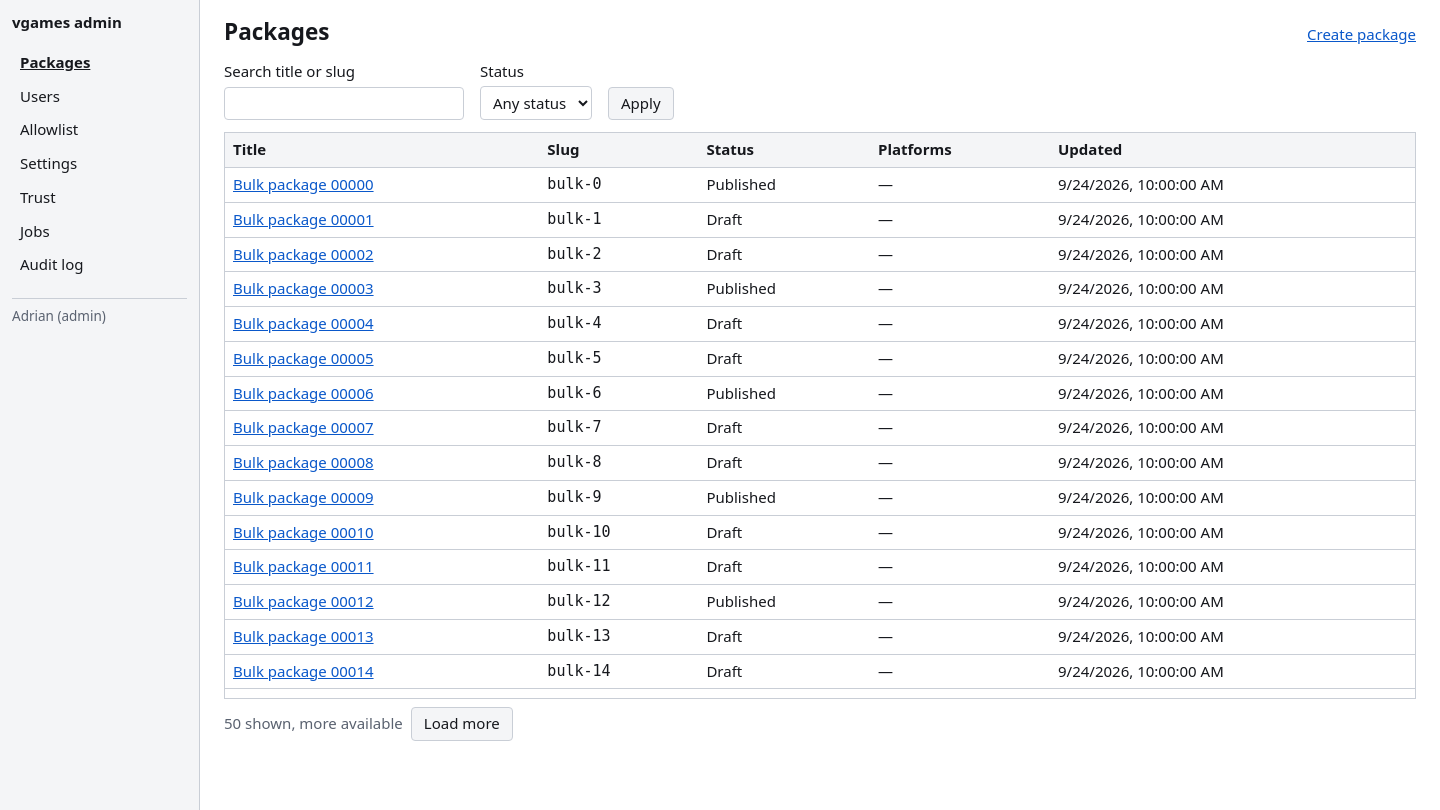
it: list pages past the threshold › packages: loading 250 of 10,000 keeps the table to a window
The image size is (1440, 810).
Click the button "Load more" at (462, 724), box [411,707,513,741]
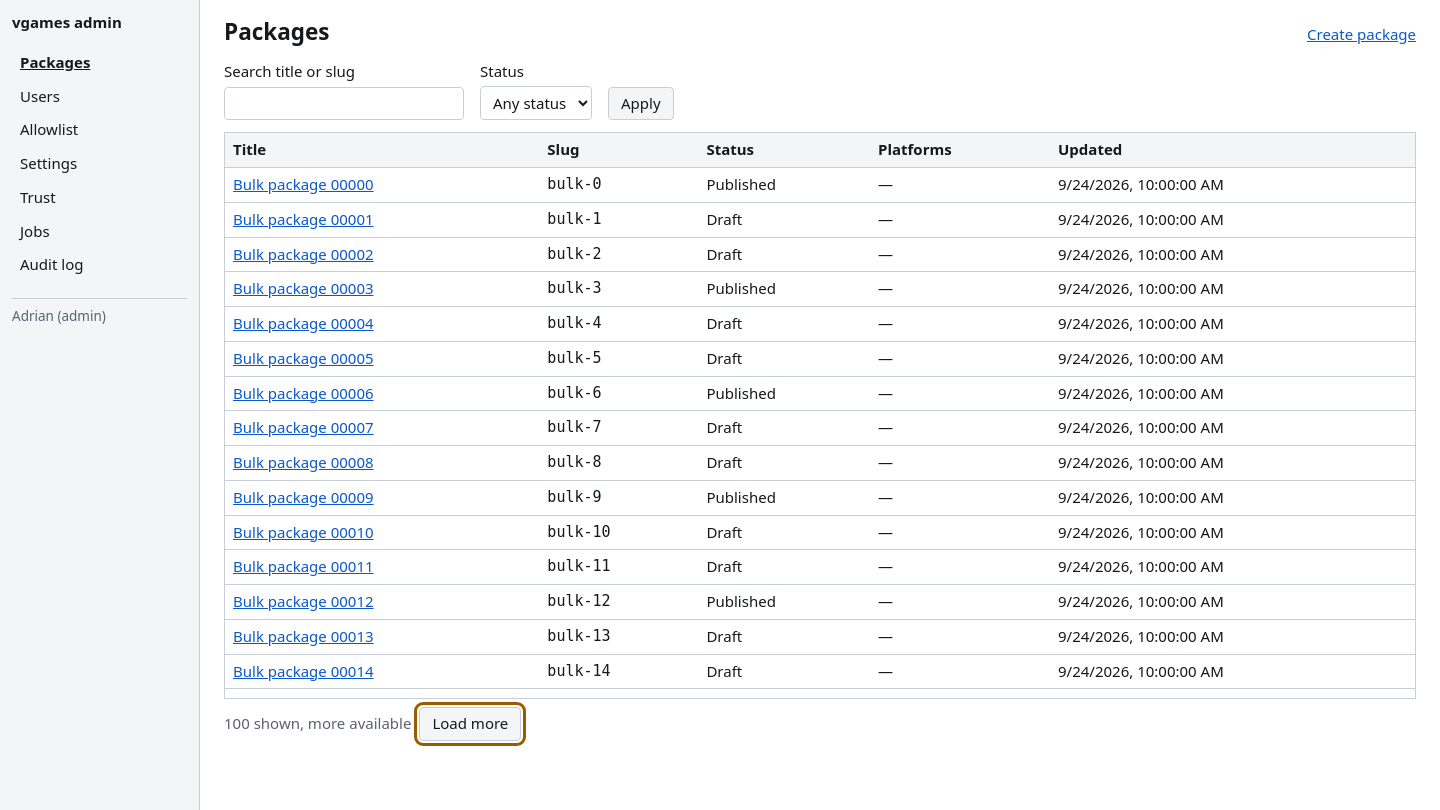
Click the button "Load more" at (470, 724), box [419,707,521,741]
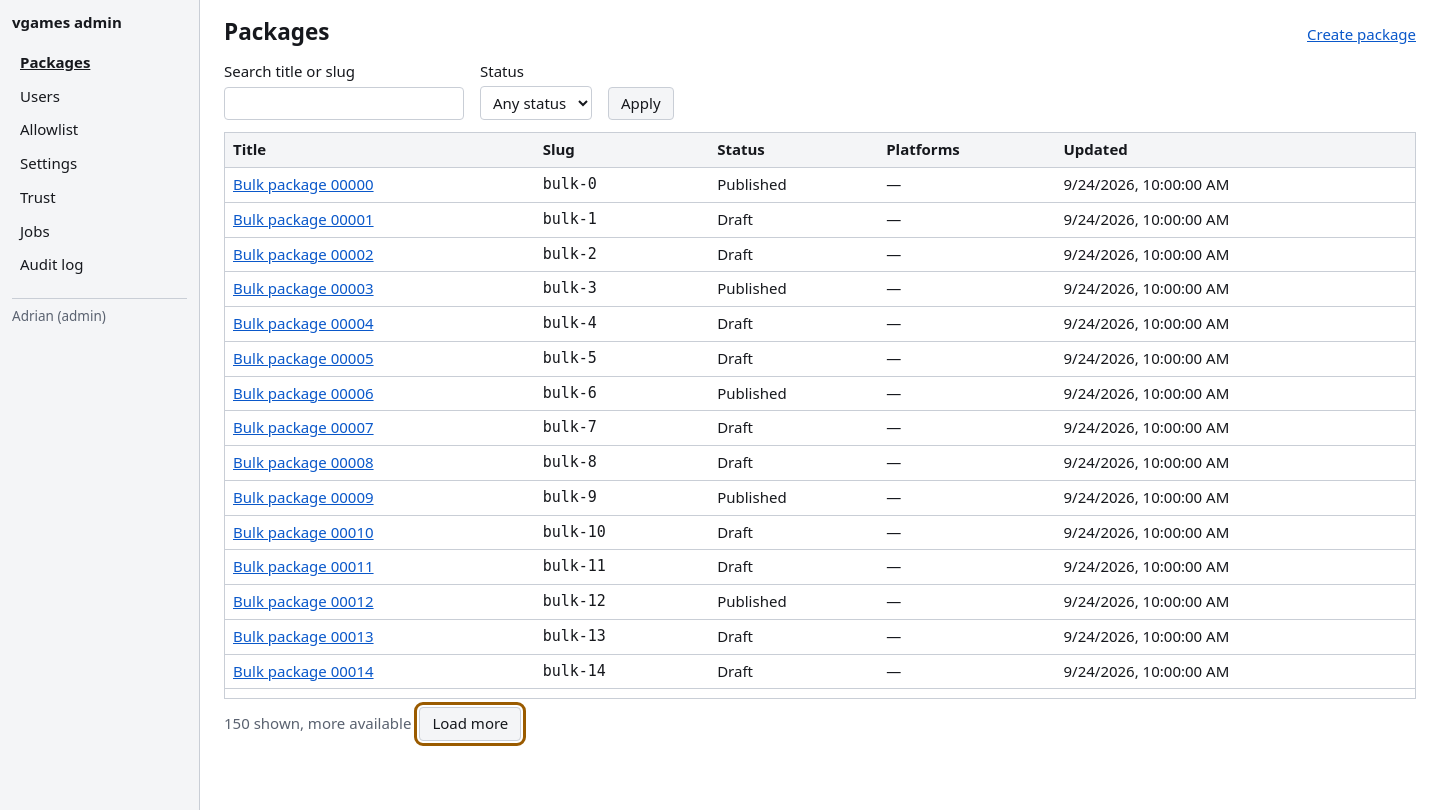
Click the button "Load more" at (470, 724), box [419,707,521,741]
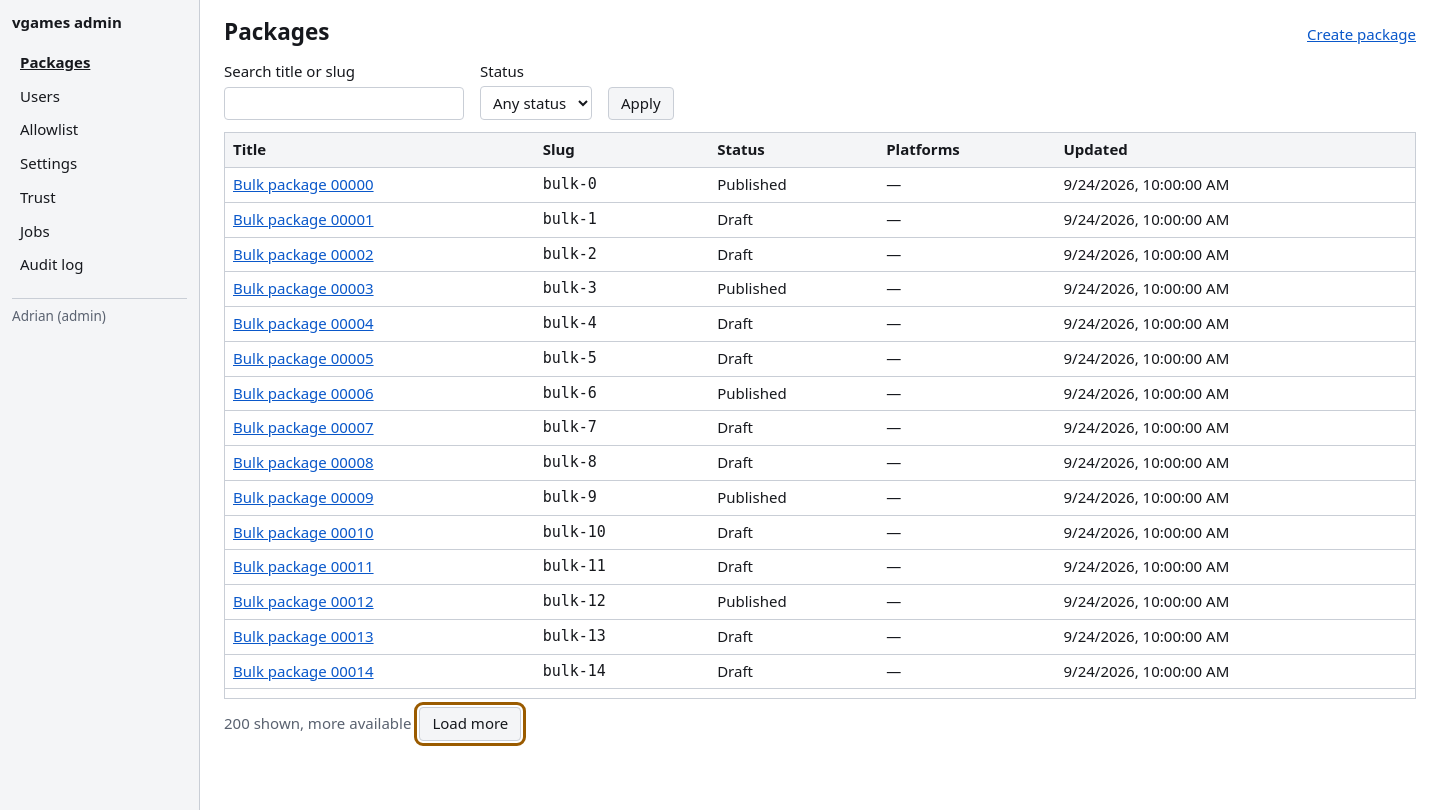
Click the button "Load more" at (470, 724), box [419,707,521,741]
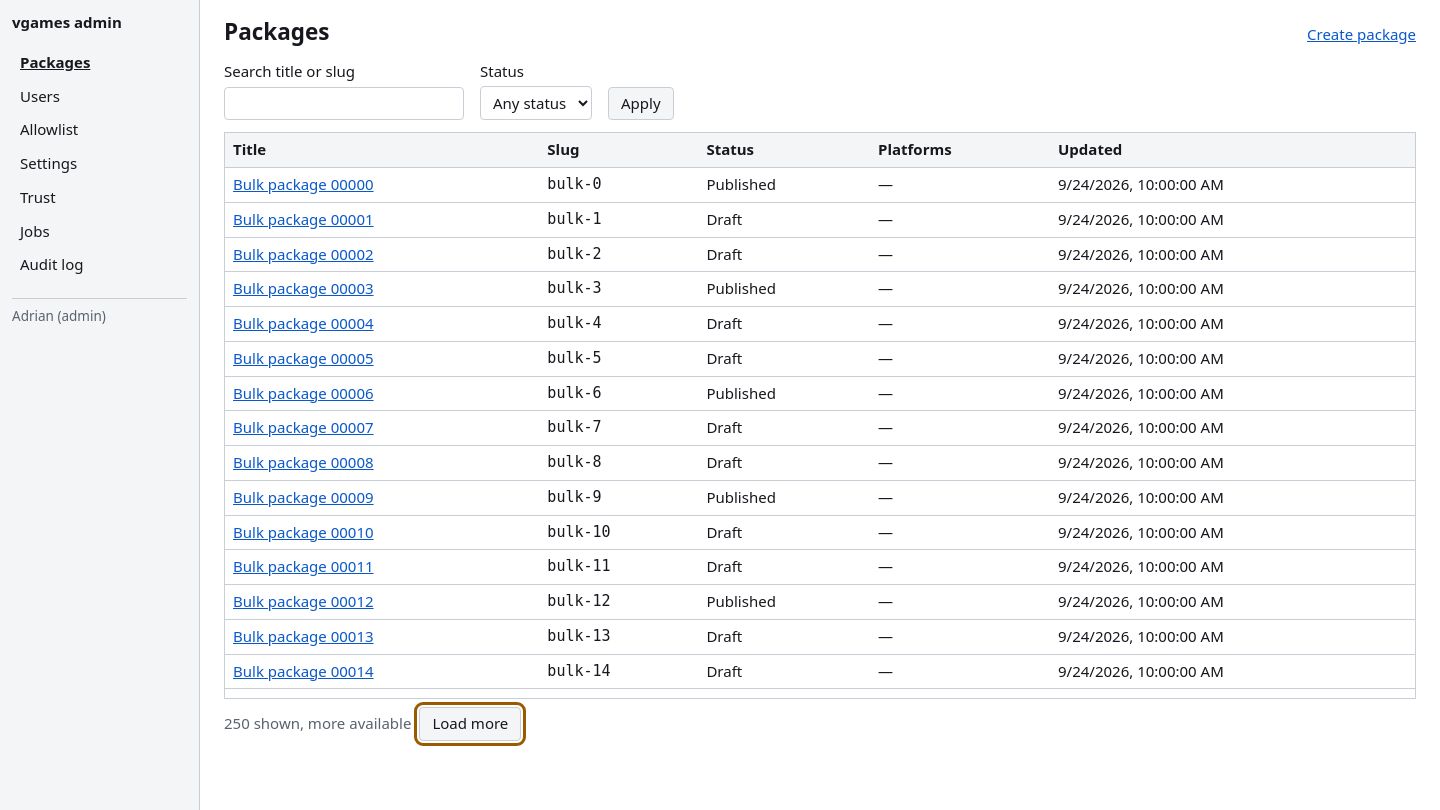
Result: the text "250 shown, more available" is shown at [224,713,411,735]
